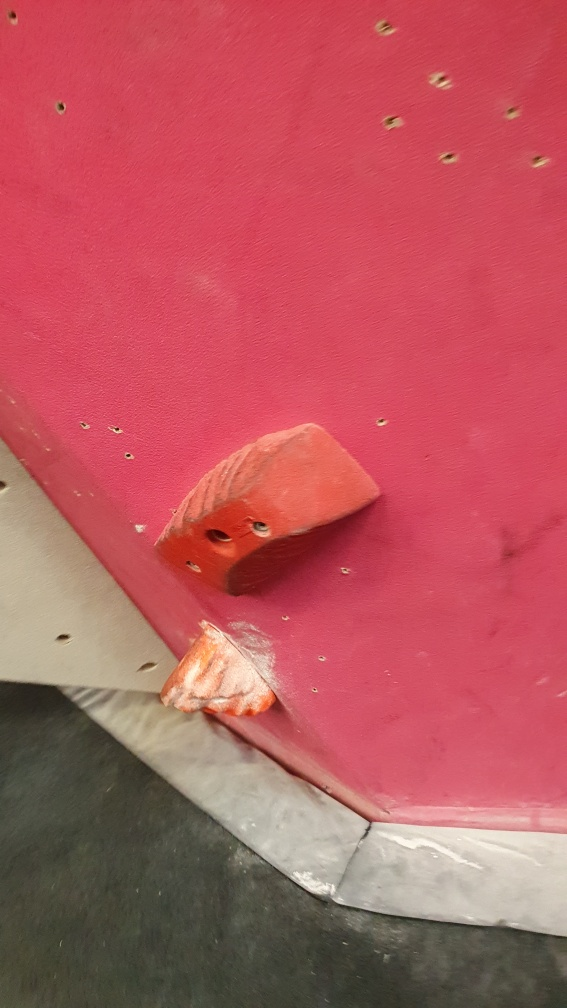Crimp: (149, 418, 386, 605)
Jug: (156, 622, 273, 718)
